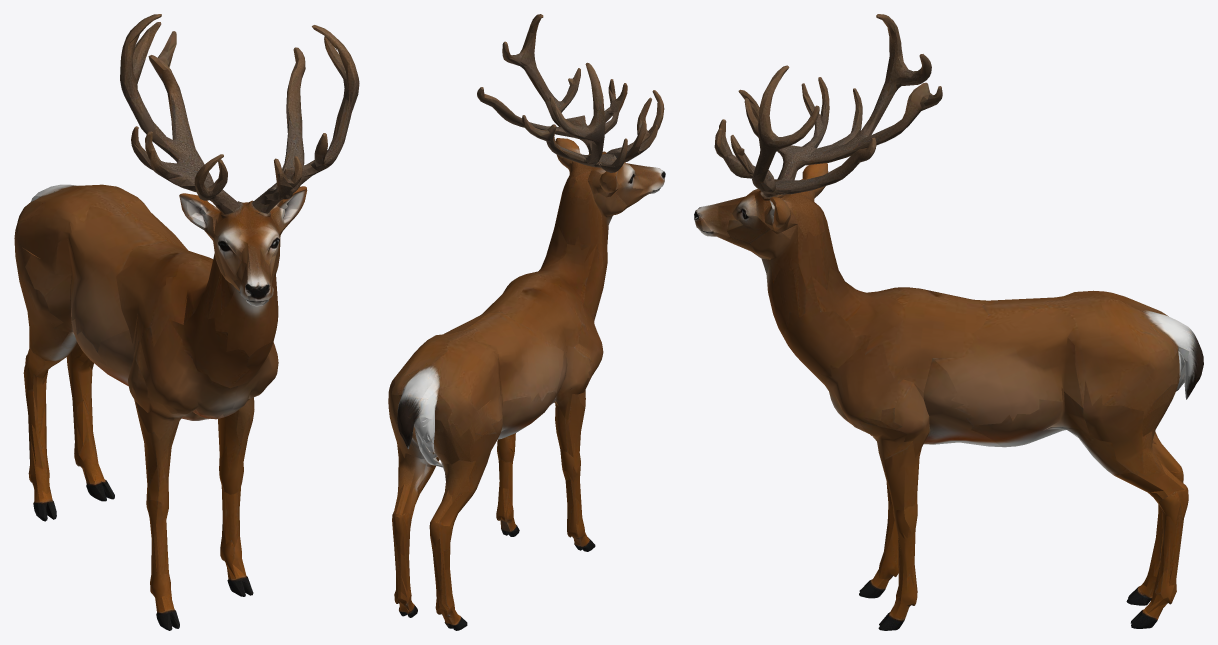
The model's file is cerf.glb.
3 renders of one model, left to right at view 1: azimuth 30°, elevation 25°; view 2: azimuth 150°, elevation 25°; view 3: azimuth 270°, elevation 25°, orthographic. The views are drawn at different scales.
Bounding box in the file's own units: 0.6346 × 1.9 × 1.52.
1 material, 1 textured.
